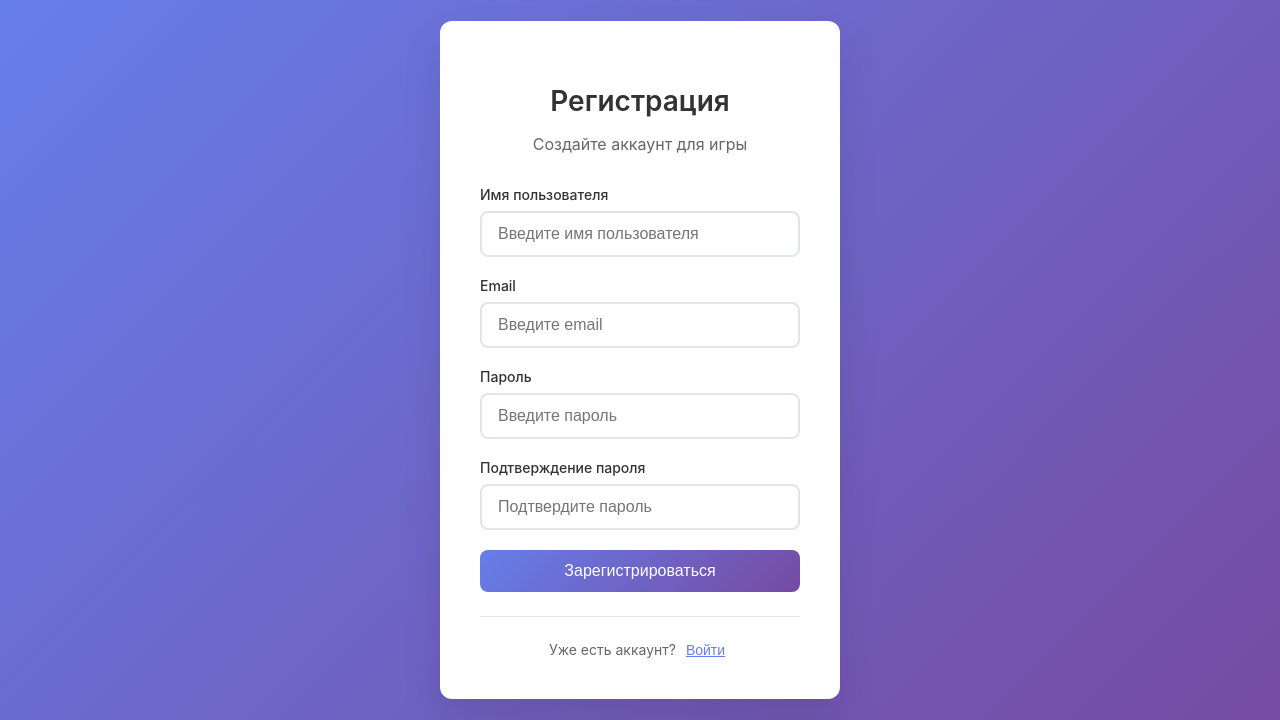
it: RegisterForm › Validation - username › should show error when username contains invalid characters
Type "test-user!" into the field labelled "Имя пользователя" at (640,234), box [480,211,800,257]
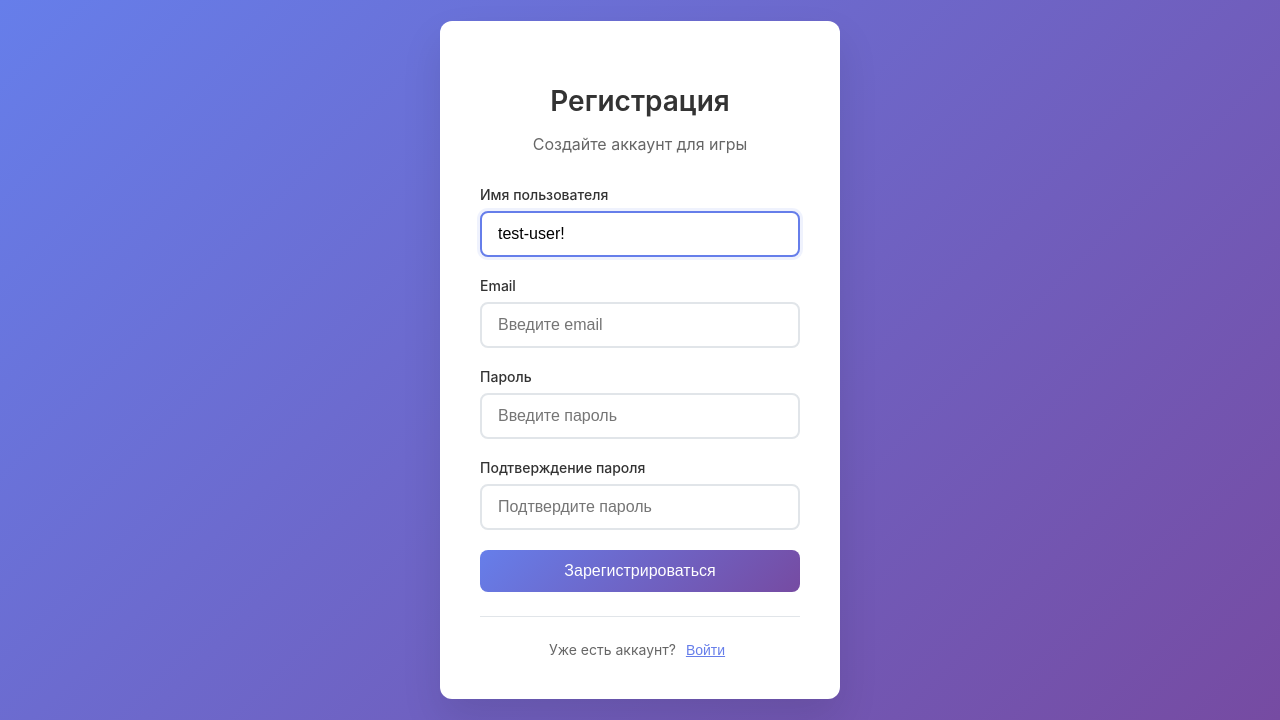
Click the button "Зарегистрироваться" at (640,571), box [480,550,800,592]
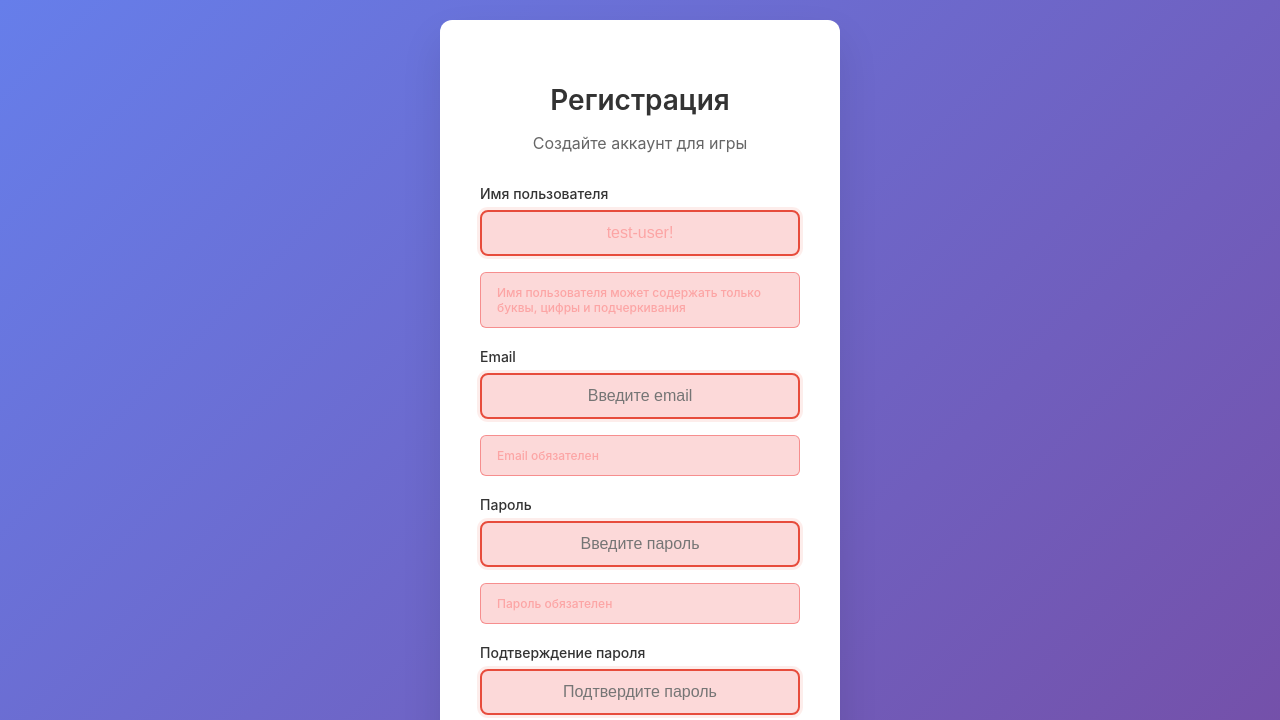
Now the text "Имя пользователя может содержать только буквы, цифры и подчеркивания" is shown, box [480,272,800,328]
